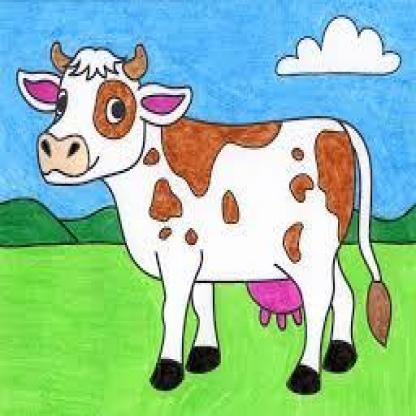cow: (17, 48, 393, 392)
